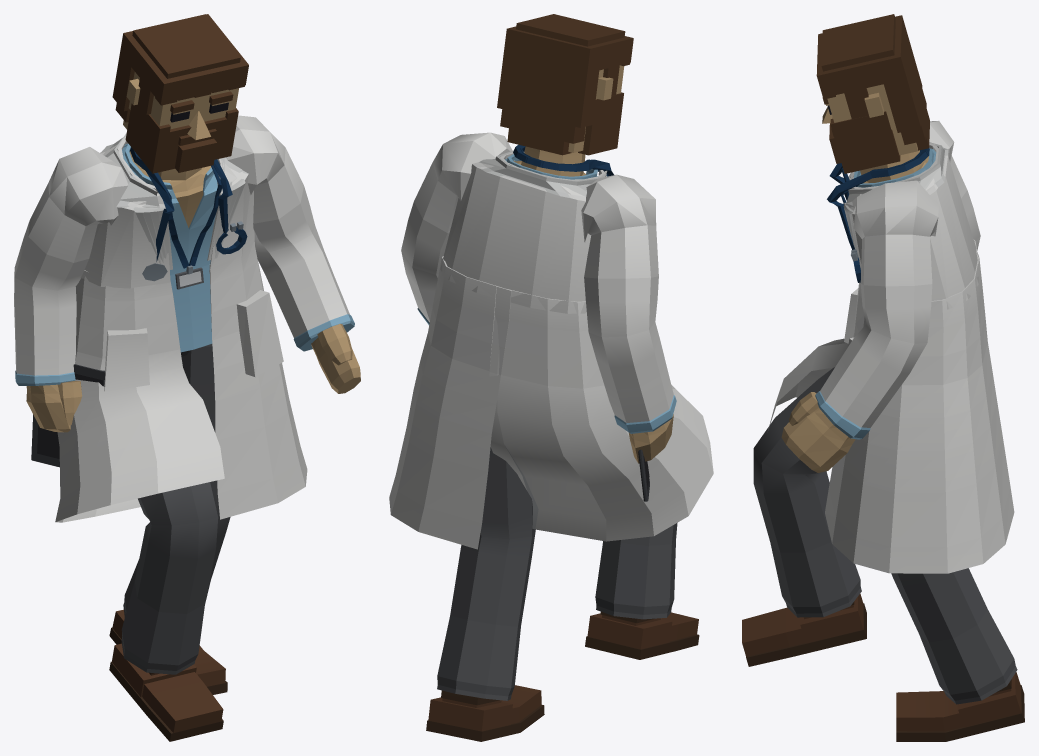
Rendered from doctor-d49de0__walk3.glb.
3 renders of one model, left to right at view 1: azimuth 30°, elevation 25°; view 2: azimuth 150°, elevation 25°; view 3: azimuth 270°, elevation 25°, orthographic.
Parts seen in each view (by area): view 1: doctor-d49de0__walk3; view 2: doctor-d49de0__walk3; view 3: doctor-d49de0__walk3.
Part boxes in pixels (x1=…): doctor-d49de0__walk3: x1=14, y1=14, x2=360, y2=741; doctor-d49de0__walk3: x1=389, y1=14, x2=713, y2=741; doctor-d49de0__walk3: x1=742, y1=14, x2=1024, y2=741.
Bounding box in the file's own units: 0.7717 × 1.73 × 0.6492.
